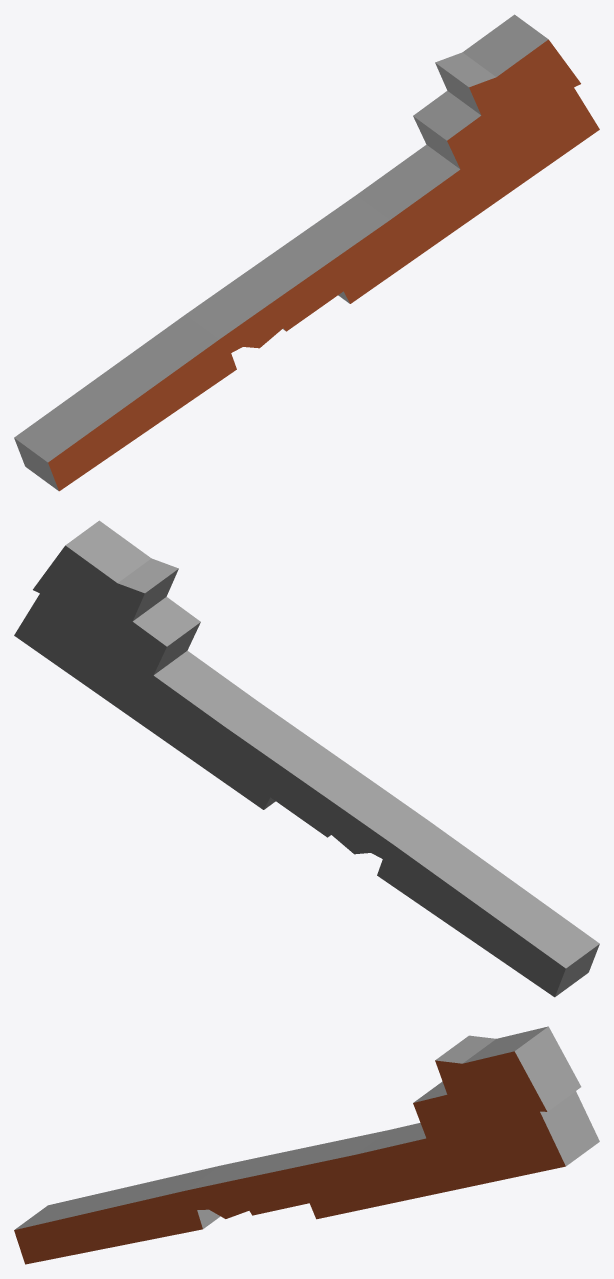
File: construction_5124_assumed_A_Casa_h6m.obj
3 renders of one model, top to bottom at view 1: azimuth 30°, elevation 25°; view 2: azimuth 150°, elevation 25°; view 3: azimuth 330°, elevation 25°, orthographic.
Visible parts, largest first — view 1: construction_5124_assumed_A_Casa; view 2: construction_5124_assumed_A_Casa; view 3: construction_5124_assumed_A_Casa.
Boxes of the visible parts, x1,y1,x2,y2 form: construction_5124_assumed_A_Casa: [14, 14, 599, 491]; construction_5124_assumed_A_Casa: [14, 520, 599, 997]; construction_5124_assumed_A_Casa: [14, 1026, 599, 1264].
Size of the model in its own units: 56.21 by 32.37 by 6.
